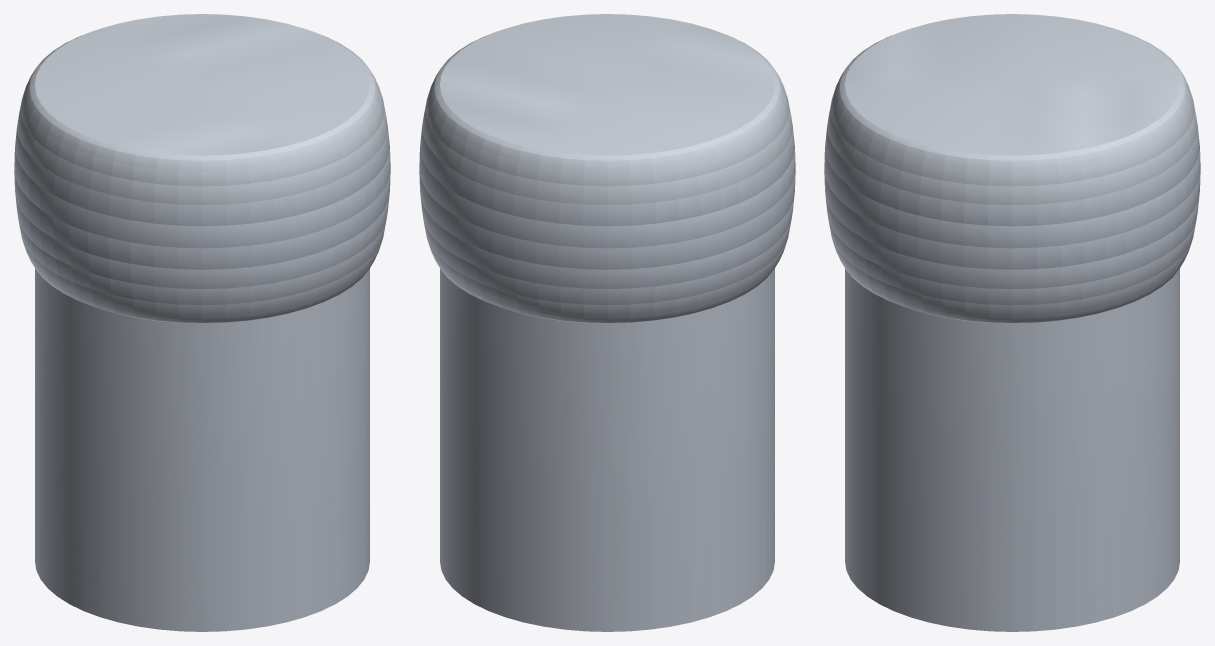
Rendered from original-8-collision.obj.
The picture shows the model from 3 angles, left to right: view 1: azimuth 30°, elevation 25°; view 2: azimuth 150°, elevation 25°; view 3: azimuth 270°, elevation 25°; orthographic projection.
Visible parts, largest first — view 1: mesh3/mesh3-geometry/material_1#mesh3-geometry.001; view 2: mesh3/mesh3-geometry/material_1#mesh3-geometry.001; view 3: mesh3/mesh3-geometry/material_1#mesh3-geometry.001.
Part boxes in pixels (<box>): mesh3/mesh3-geometry/material_1#mesh3-geometry.001: <box>14,14,390,631</box>; mesh3/mesh3-geometry/material_1#mesh3-geometry.001: <box>419,14,795,631</box>; mesh3/mesh3-geometry/material_1#mesh3-geometry.001: <box>824,14,1200,631</box>.
Size of the model in its own units: 0.1414 by 0.1974 by 0.1414.
